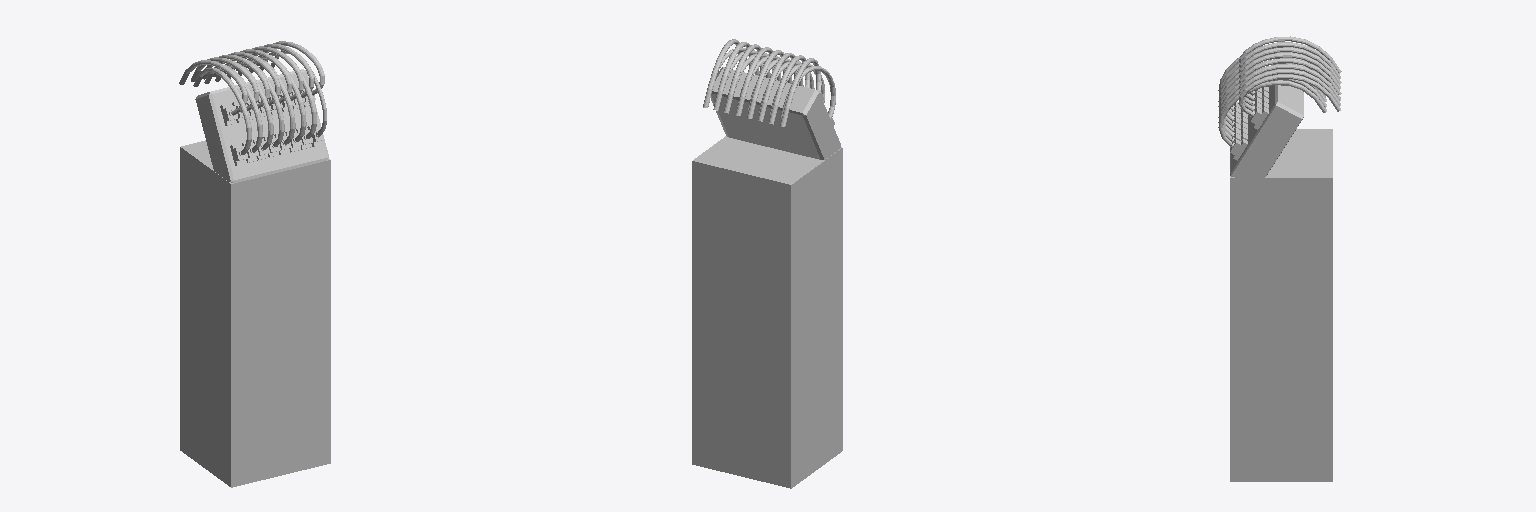
File: Основа шкафа.obj
3 renders of one model, left to right at view 1: azimuth 30°, elevation 25°; view 2: azimuth 150°, elevation 25°; view 3: azimuth 270°, elevation 25°, orthographic.
Parts seen in each view (by area): view 1: Основа_шкафа_Cube.001; view 2: Основа_шкафа_Cube.001; view 3: Основа_шкафа_Cube.001.
Boxes of the visible parts, box(x1,y1,x2,y2) form: Основа_шкафа_Cube.001: box(179, 41, 330, 487); Основа_шкафа_Cube.001: box(692, 39, 842, 488); Основа_шкафа_Cube.001: box(1218, 36, 1341, 481).
Size of the model in its own units: 4.92 by 19.07 by 5.28.